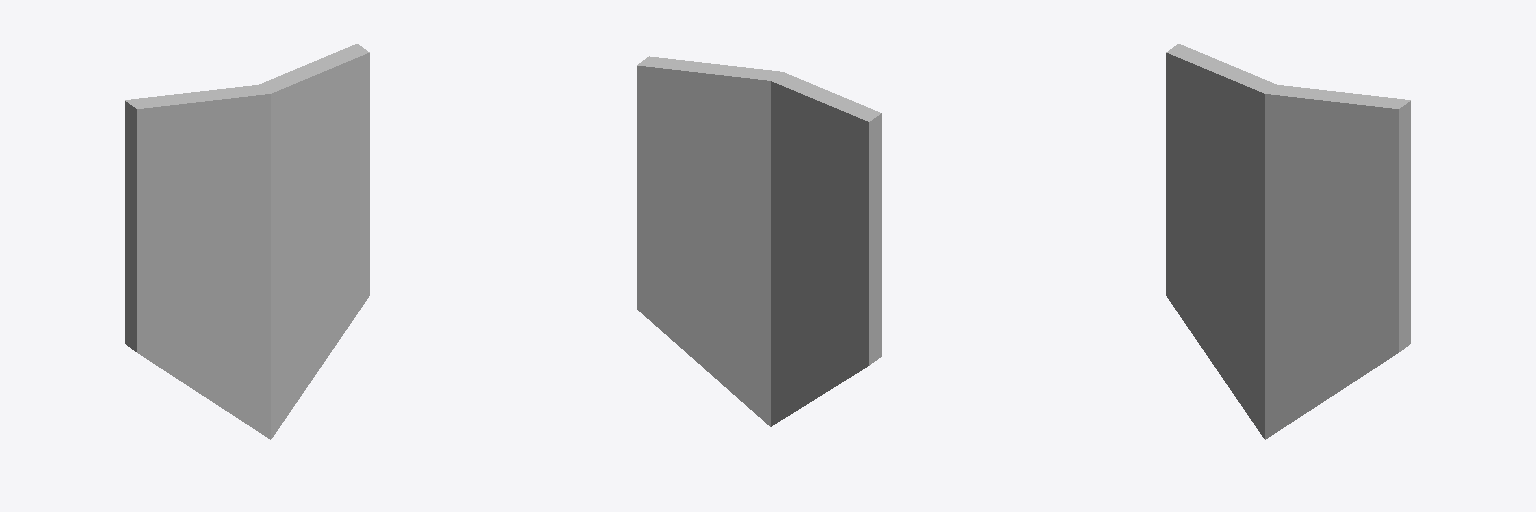
Rendered from Shield_Snake.obj.
The picture shows the model from 3 angles: view 1: azimuth 30°, elevation 25°; view 2: azimuth 150°, elevation 25°; view 3: azimuth 330°, elevation 25°; orthographic projection.
Parts seen in each view (by area): view 1: Shield_Snake_Cube.001; view 2: Shield_Snake_Cube.001; view 3: Shield_Snake_Cube.001.
Boxes of the visible parts, x1=… form: Shield_Snake_Cube.001: x1=125, y1=44, x2=369, y2=439; Shield_Snake_Cube.001: x1=637, y1=56, x2=881, y2=426; Shield_Snake_Cube.001: x1=1166, y1=44, x2=1410, y2=439.
Size of the model in its own units: 1.66 by 2.36 by 0.3708.